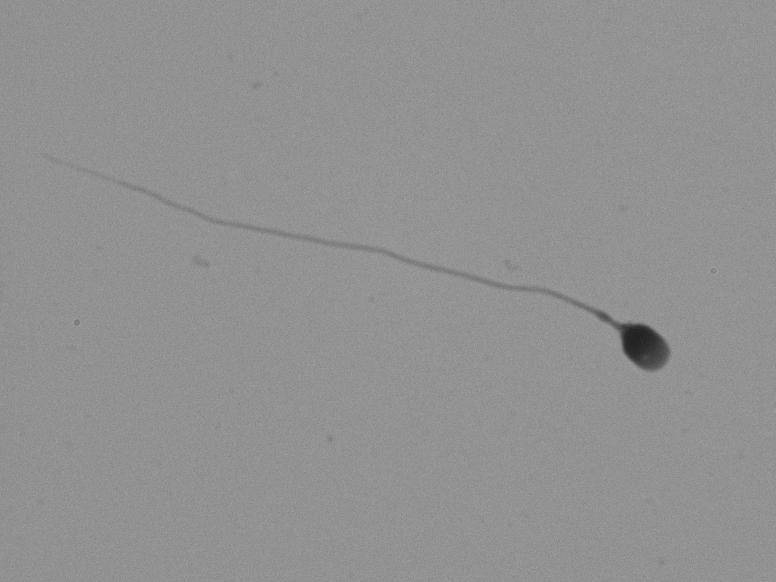Normal: (48, 145, 704, 396)
